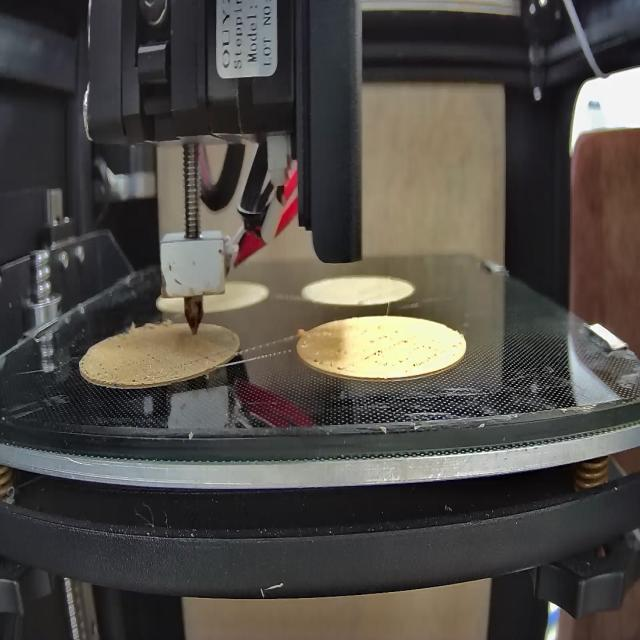under_extrusion: (365, 326, 441, 370), (194, 344, 236, 371), (83, 357, 122, 385), (314, 356, 348, 378)
